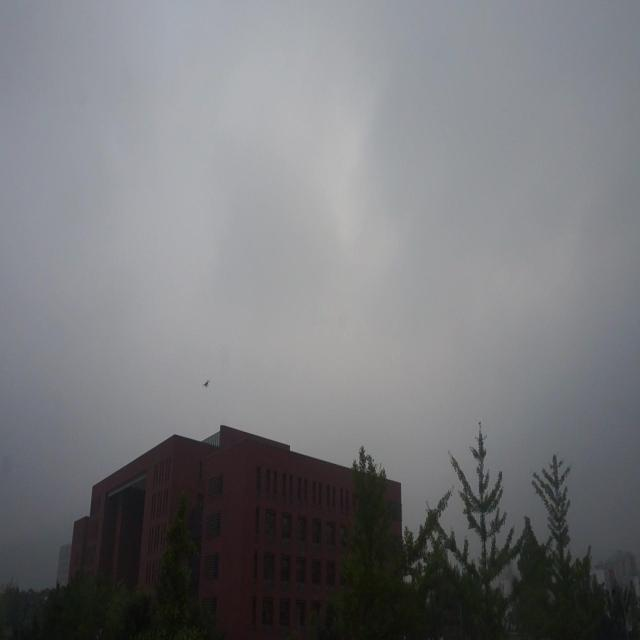drone: (202, 375, 211, 394)
